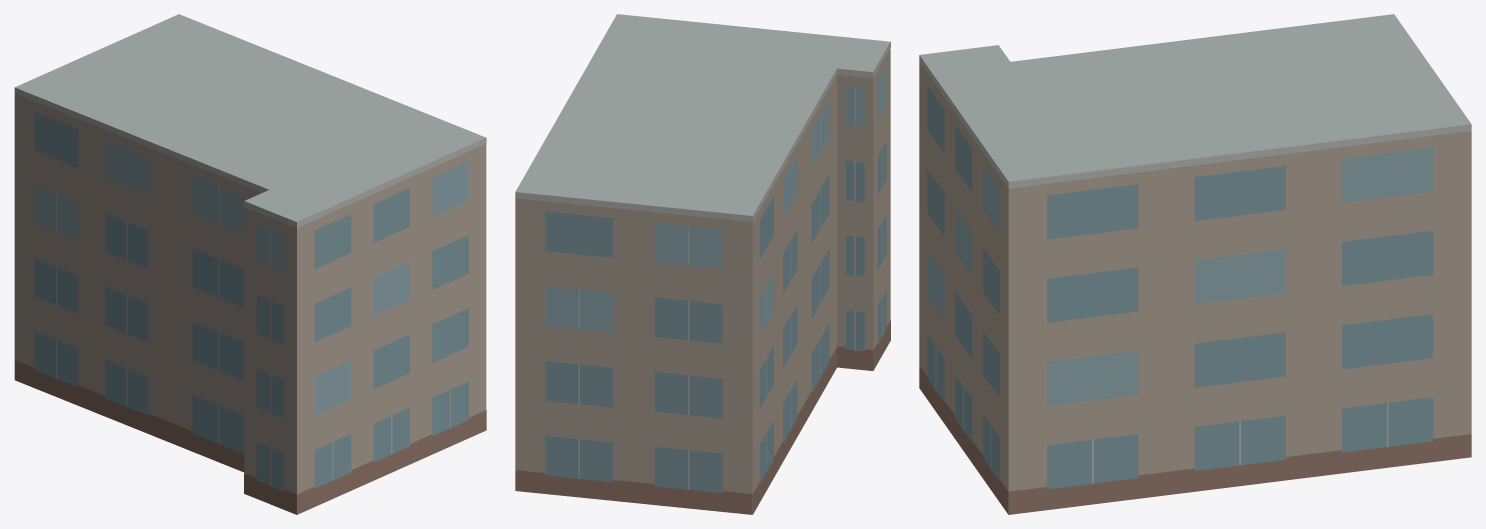
The model's file is survey-upis-32611573.glb.
3 renders of one model, left to right at view 1: azimuth 30°, elevation 25°; view 2: azimuth 150°, elevation 25°; view 3: azimuth 270°, elevation 25°, orthographic. The views are drawn at different scales.
Parts seen in each view (by area): view 1: survey-upis-32611573.tmp; view 2: survey-upis-32611573.tmp; view 3: survey-upis-32611573.tmp.
Boxes of the visible parts, x1,y1,x2,y2 form: survey-upis-32611573.tmp: [14, 14, 486, 514]; survey-upis-32611573.tmp: [515, 14, 890, 514]; survey-upis-32611573.tmp: [919, 14, 1471, 514].
Bounding box in the file's own units: 12.9 × 11.93 × 17.94.
